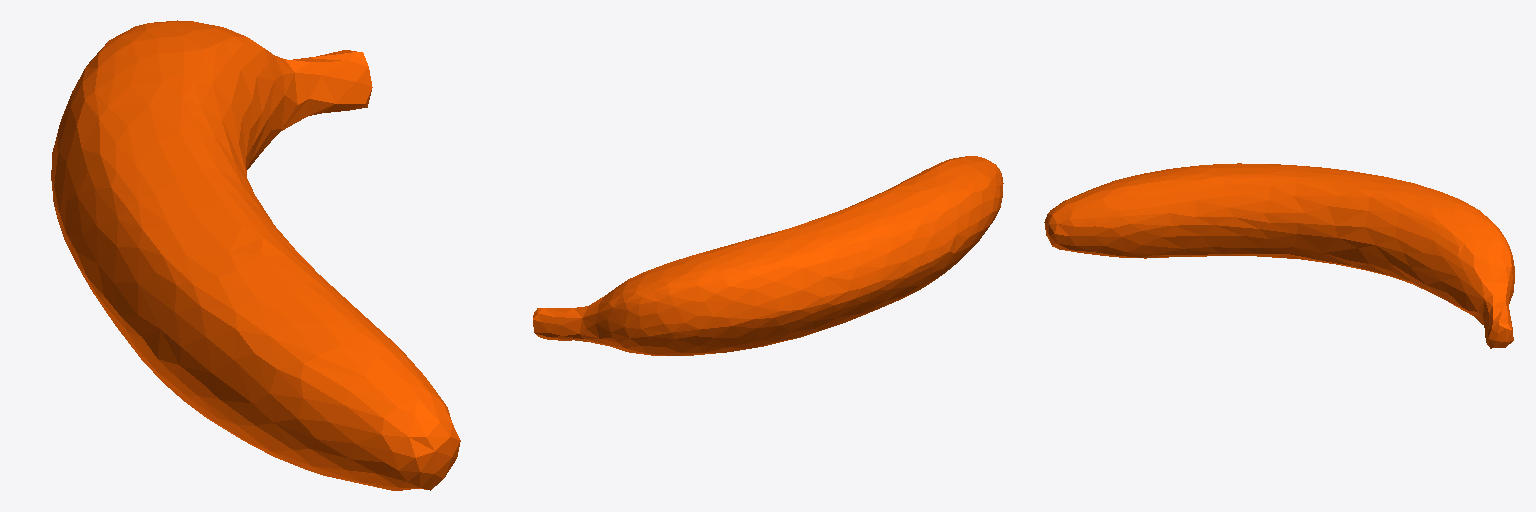
URDF robot description (011_banana):
<?xml version="1.0" ?>
<robot name="011_banana">
   <material name="obj_color">
      <color rgba="1.0 0.423529411765 0.0392156862745 1.0"/>
   </material>
   <link name="top">
      <inertial>
         <origin rpy="5.792309213600807e-05 0.0005887062908606298 0.0006118166598549847" xyz="-0.00271175054538607 -0.000787991282553966 0.0005714533972818282"/>
         <mass value="0.24875"/>
         <inertia ixx="0.0005369694320673616" ixy="-0.0001588165550038058" ixz="3.706644541444568e-06" iyy="0.0001105816321768803" iyz="-3.145538599359368e-06" izz="0.0006108949786073807"/>
      </inertial>
      <visual>
         <origin rpy="0 0 0" xyz="0 0 0"/>
         <geometry>
            <mesh filename="top_watertight_tiny.stl" scale="1 1 1"/>
         </geometry>
         <material name="obj_color"/>
      </visual>
      <collision>
         <origin rpy="0 0 0" xyz="0 0 0"/>
         <geometry>
            <mesh filename="top_watertight_tiny.obj" scale="1 1 1"/>
         </geometry>
      </collision>
   </link>
   <link name="bottom">
      <inertial>
         <origin rpy="1.633333333199431e-08 1.633333333199431e-08 1.633333333362855e-08" xyz="0.3464080000000008 0.3464080000000008 0.3464080000000008"/>
         <mass value="0.0009800000000000017"/>
         <inertia ixx="1.633333333253906e-08" ixy="5.447480642029219e-19" ixz="5.447480642029219e-19" iyy="1.633333333253906e-08" iyz="5.447480642029219e-19" izz="1.633333333253906e-08"/>
      </inertial>
      <visual>
         <origin rpy="0 0 0" xyz="0 0 0"/>
         <geometry>
            <mesh filename="bottom_watertight_tiny.stl" scale="1 1 1"/>
         </geometry>
         <material name="obj_color"/>
      </visual>
   </link>
   <link name="world"/>
   <joint name="world_to_base" type="fixed">
      <origin xyz="0 0 0"/>
      <axis xyz="0 0 0"/>
      <parent link="world"/>
      <child link="bottom"/>
   </joint>
   <joint name="rotation" type="revolute">
      <origin xyz="0 0 0"/>
      <axis xyz="0 0 -1"/>
      <parent link="bottom"/>
      <child link="top"/>
      <dynamics damping="1.0" friction="1.0"/>
      <limit effort="0.1" velocity="0.1" lower="0" upper="0.001"/>
   </joint>
</robot>

--- Facts derived from the render (not from the file) ---
The picture shows the robot from 3 angles, left to right: view 1: azimuth 30°, elevation 25°; view 2: azimuth 150°, elevation 25°; view 3: azimuth 270°, elevation 25°; orthographic projection.
Robot: 011_banana — 3 links, 2 joints (1 revolute, 1 fixed); root link world; default pose: all joints at 0.
Visible links, largest first — view 1: top; view 2: top; view 3: top.
Boxes of the visible links, x1,y1,x2,y2 form: top: (51,20,460,490); top: (533,156,1003,355); top: (1044,163,1514,348).
Bounding box of the posed robot: 0.1086 × 0.178 × 0.0363 m (x, y, z).
1 mesh visuals loaded from 2 distinct referenced files (1 binary STL); not drawn: 1 (reference not matched to a file when rendering).